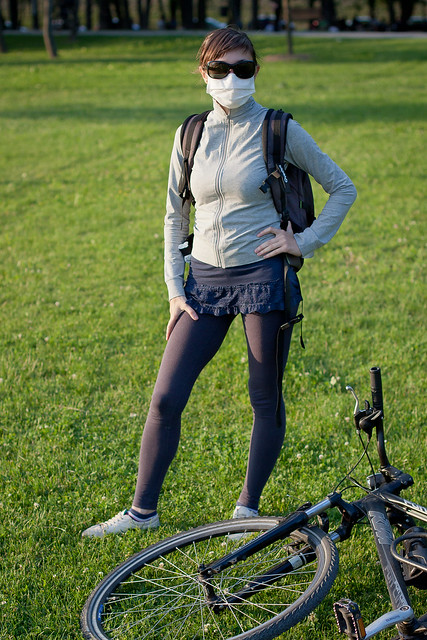mask: (206, 75, 255, 111)
